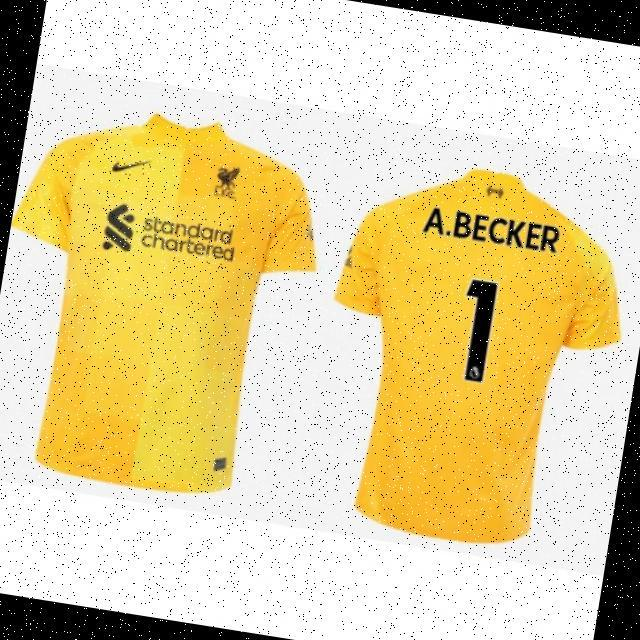Nike: (109, 155, 152, 179)
Standard Chartered: (97, 198, 241, 273)
